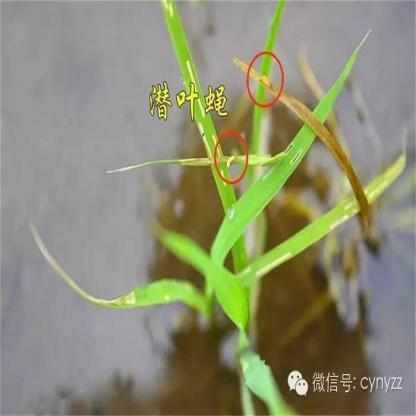whorl-maggot: (226, 148, 237, 172)
